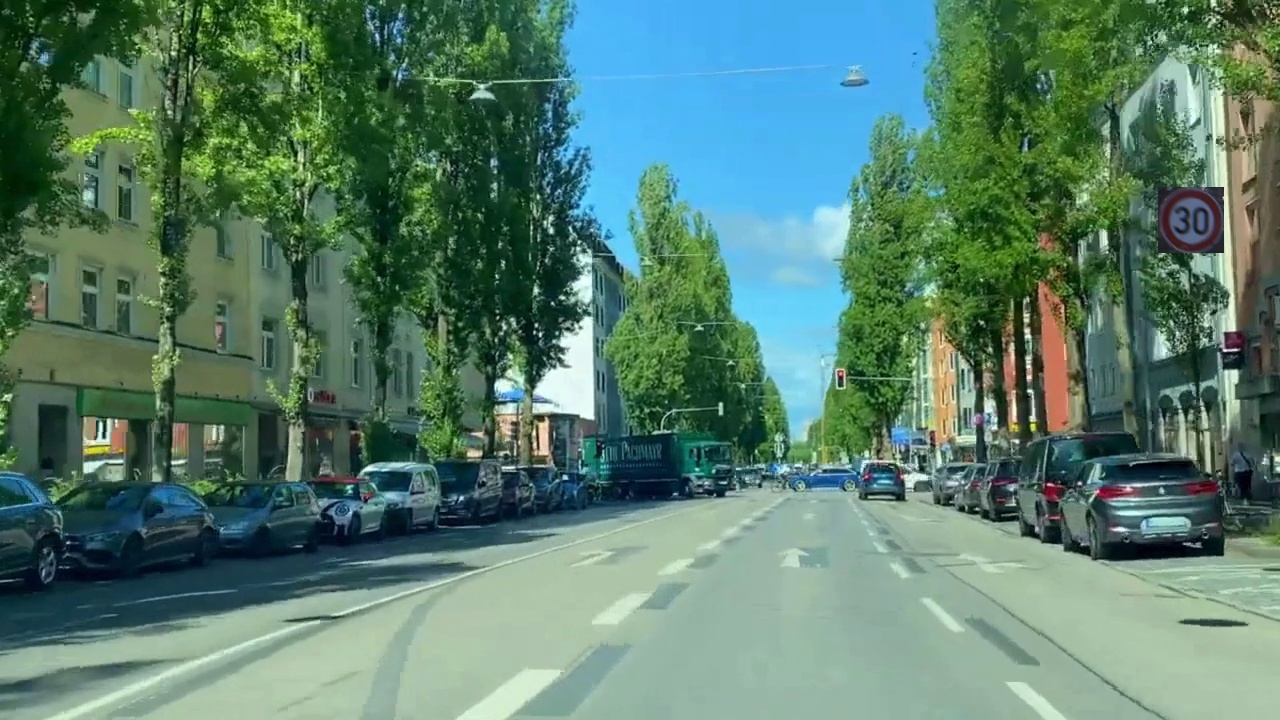Speed 30: (1158, 187, 1224, 253)
